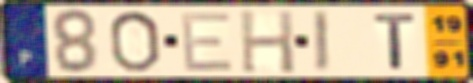8: (49, 6, 102, 76)
E: (178, 10, 236, 73)
H: (237, 8, 298, 75)
I: (310, 9, 333, 75)
O: (107, 9, 163, 74)
T: (371, 12, 419, 71)
